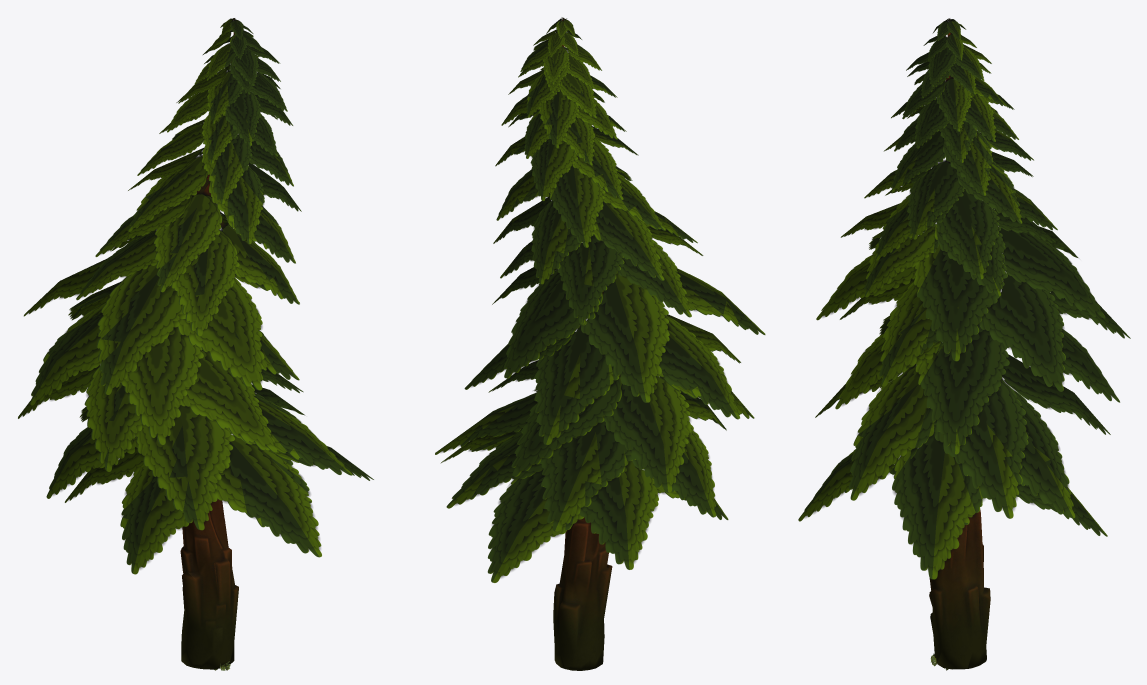
Rendered from tree.glb.
3 renders of one model, left to right at view 1: azimuth 30°, elevation 25°; view 2: azimuth 150°, elevation 25°; view 3: azimuth 270°, elevation 25°, orthographic. The views are drawn at different scales.
Visible parts, largest first — view 1: Fantesy tree, tree3.low.001; view 2: Fantesy tree, tree3.low.001; view 3: Fantesy tree, tree3.low.001.
Part boxes in pixels (x1,y1,x2,y2): Fantesy tree: [18, 18, 373, 574]; tree3.low.001: [180, 32, 238, 669]; Fantesy tree: [435, 17, 765, 582]; tree3.low.001: [553, 20, 620, 670]; Fantesy tree: [798, 18, 1130, 579]; tree3.low.001: [929, 33, 990, 669].
Bounding box in the file's own units: 4.14 × 7.89 × 3.65.
Materials: 5 (5 with a texture image).
